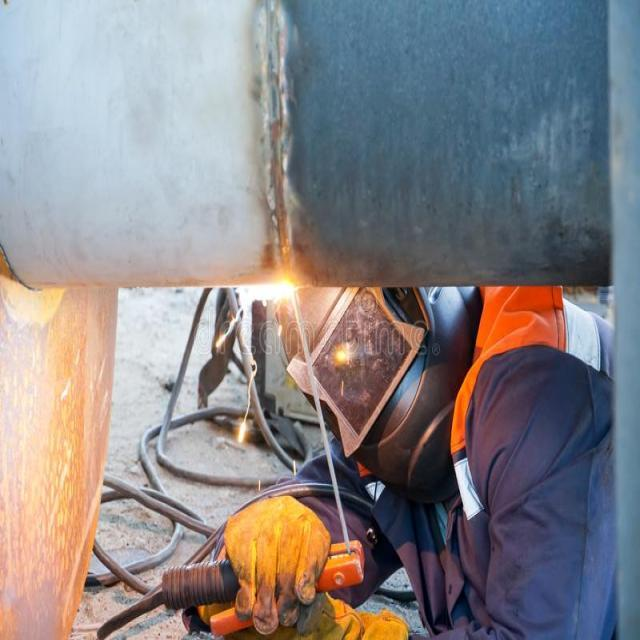with_helmet: (301, 288, 478, 498)
